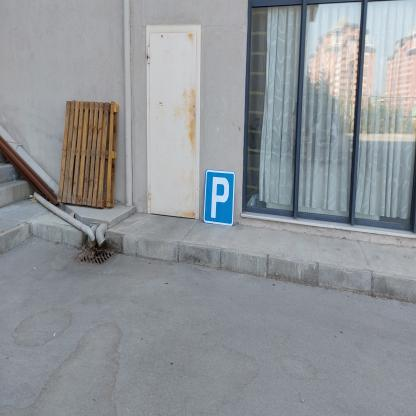Parking-Sign: (204, 171, 236, 227)
